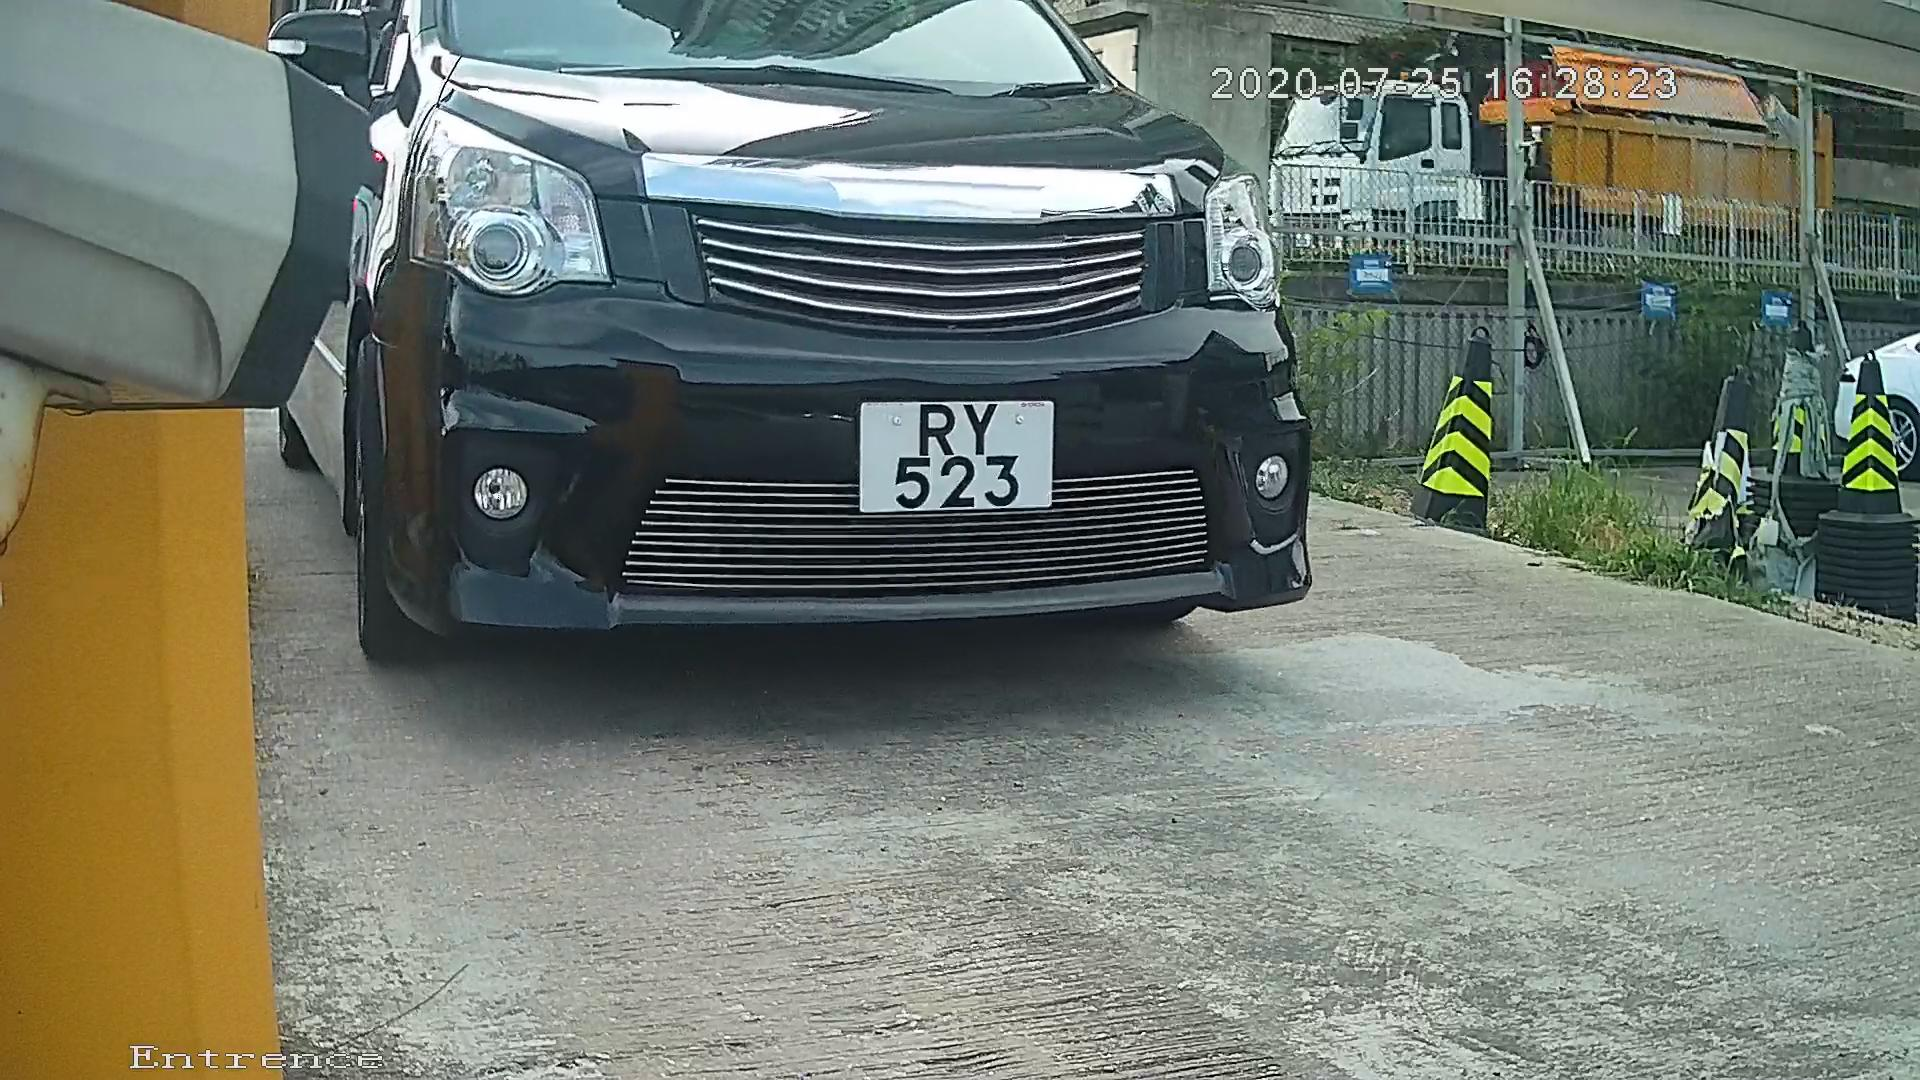License Plate: (841, 381, 1081, 531)
